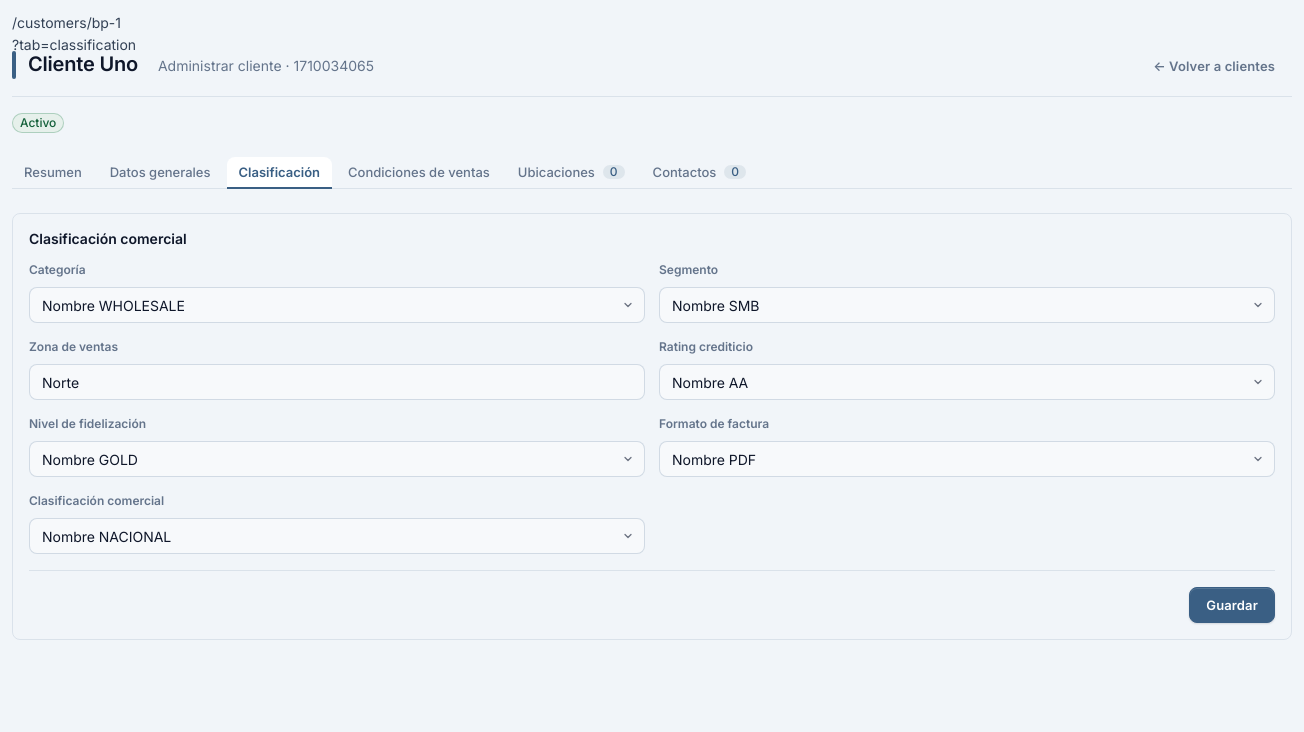
Scenario: clasificación del cliente — configuración existente › si falla el guardado, mantiene el formulario con los valores editados y muestra el error
Expected: the heading "Clasificación comercial" is shown, [29,230,187,247]
Expected: the button "Guardar" is enabled, [1189,587,1275,623]
Select "Nombre ENTERPRISE" in the dropdown labelled "Segmento" at (967, 305), box [659,287,1275,323]
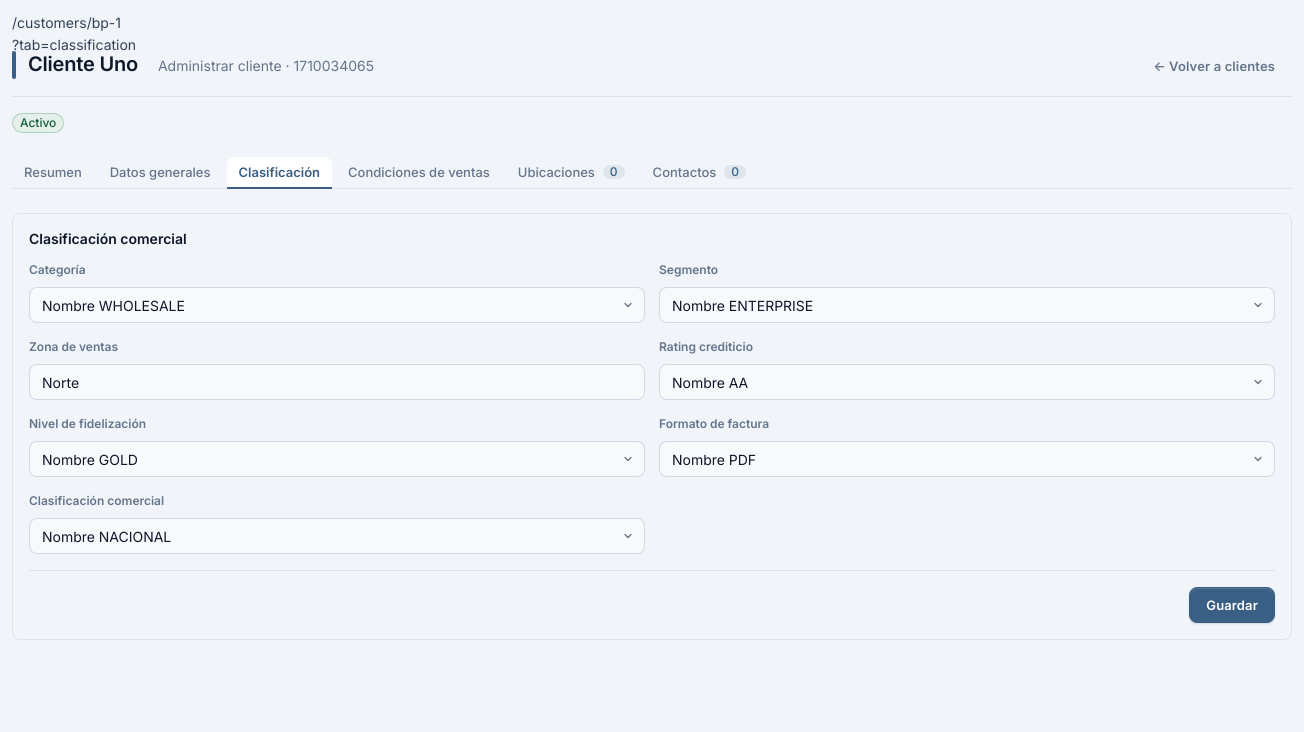
Click the button "Guardar".
click(1232, 605)  # box [1189,587,1275,623]
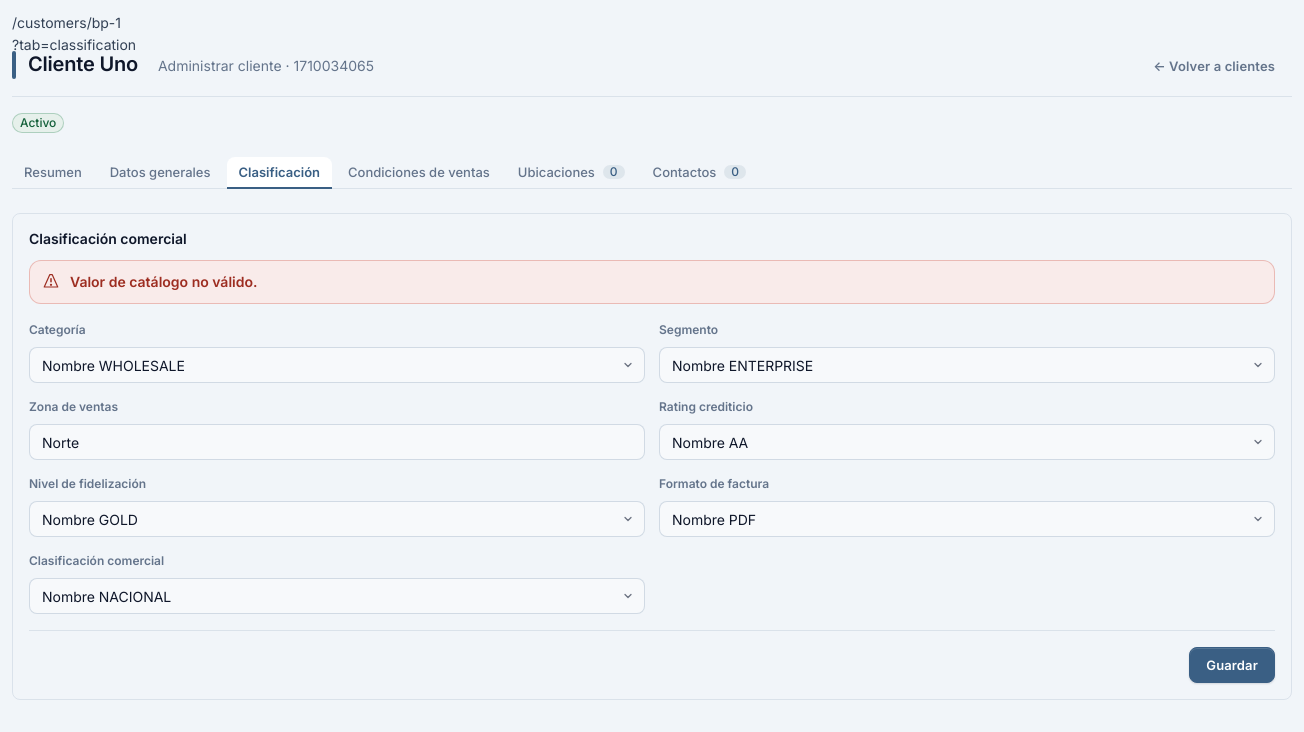
Expected: the field with placeholder "Norte, Sur, Centro…" holds "Norte", [29,424,645,460]
Result: the text "Valor de catálogo no válido." is shown at [70,271,258,293]
